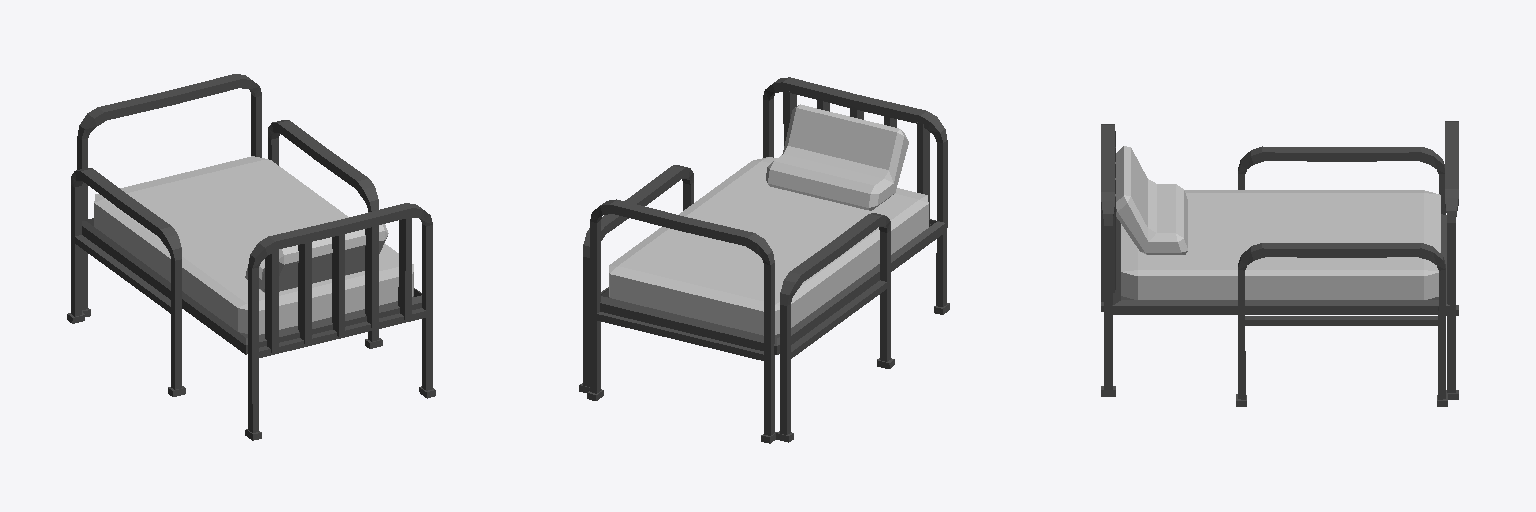
Rendered from bed.obj.
3 views of the same model, side by side, from view 1: azimuth 30°, elevation 25°; view 2: azimuth 150°, elevation 25°; view 3: azimuth 270°, elevation 25° (orthographic).
Parts seen in each view (by area): view 1: Plane.004; view 2: Plane.004; view 3: Plane.004.
Boxes of the visible parts, <box> form: Plane.004: <box>67,74,435,440</box>; Plane.004: <box>579,77,949,443</box>; Plane.004: <box>1101,121,1458,406</box>.
Size of the model in its own units: 3.86 by 3.52 by 5.71.